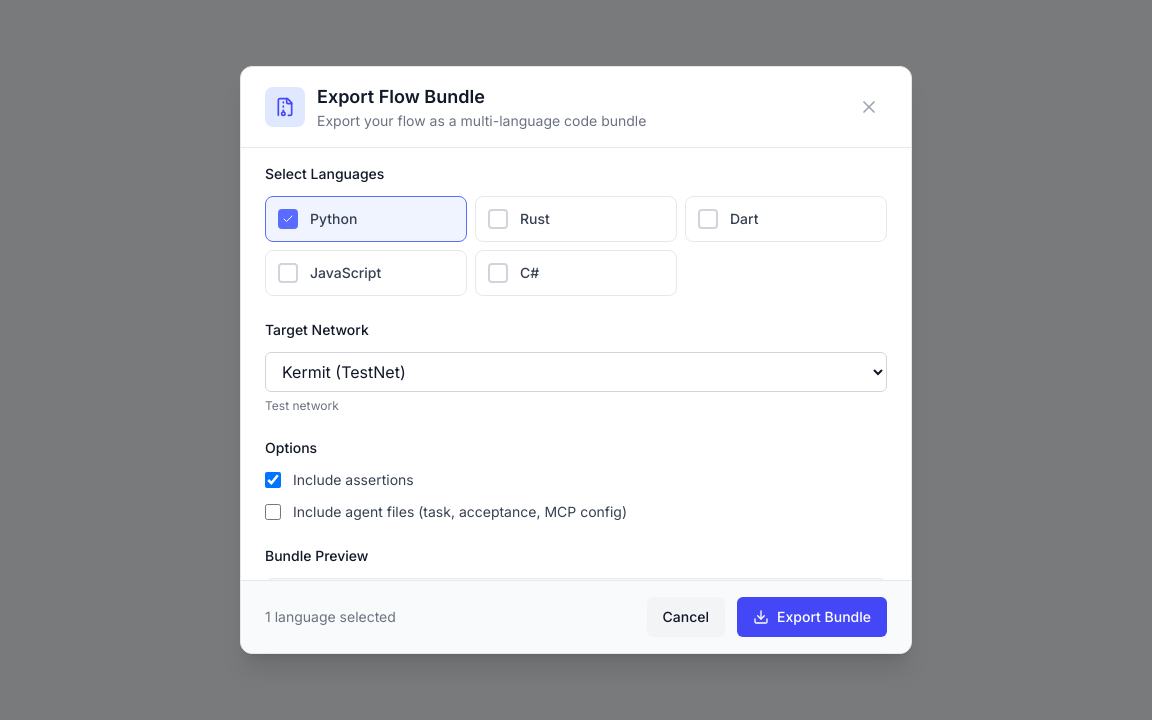
ExportModal › disables Export Bundle button when no languages selected
Deselect Python (the only selected language)
Click the text "Python" at (334, 219), box [310,209,357,229]
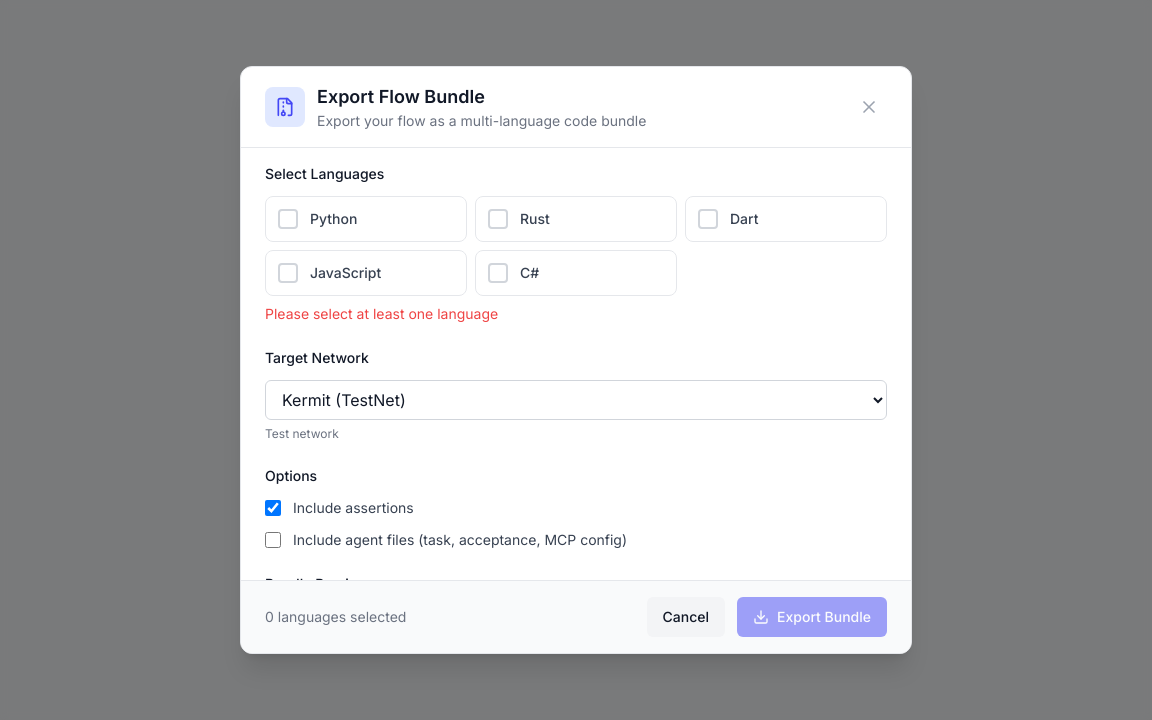
Now the text "0 languages selected" is shown, box [265,607,406,627]
Now the button "Export Bundle" is disabled, box [737,597,887,637]
